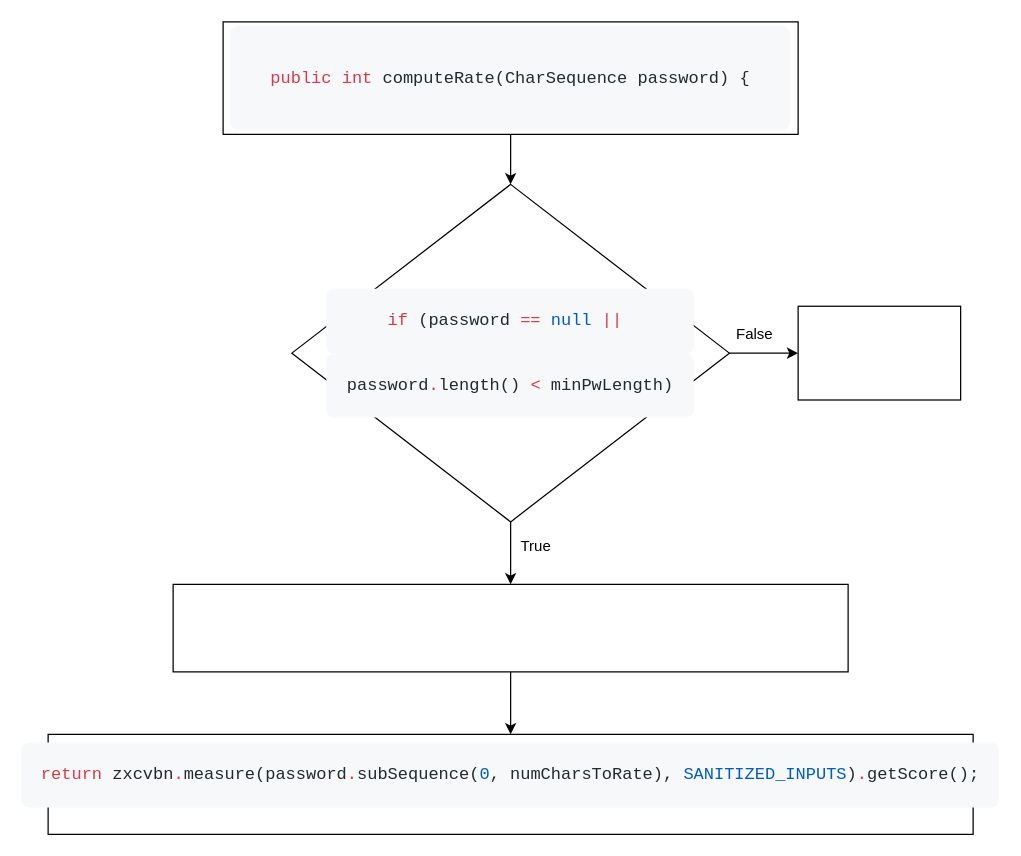
This 1021x856 diagram has some shape labels left out. Each missing label, with the centre of its shape:
"int numCharsToRate = Math . min( PW_TRUNC_LEN , password . length());" belongs at point 510,627.
"return - 1 ;" belongs at point 879,352.
